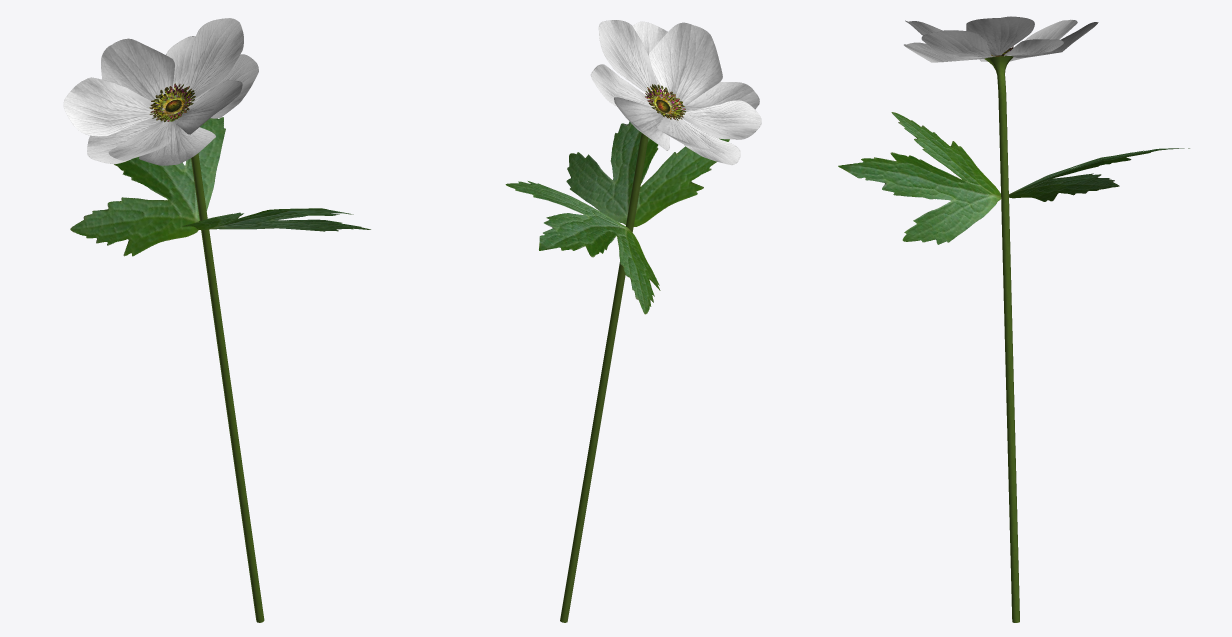
The picture shows the model from 3 angles, left to right: view 1: azimuth 30°, elevation 25°; view 2: azimuth 150°, elevation 25°; view 3: azimuth 270°, elevation 25°; orthographic projection. The views are drawn at different scales.
Parts seen in each view (by area): view 1: Cylinder.004; view 2: Cylinder.004; view 3: Cylinder.004.
Part boxes in pixels (bbox=[...]): Cylinder.004: bbox=[63, 18, 370, 622]; Cylinder.004: bbox=[505, 20, 761, 622]; Cylinder.004: bbox=[838, 16, 1189, 622].
Bounding box in the file's own units: 708 × 1652 × 1052.
1 material, 1 textured.
